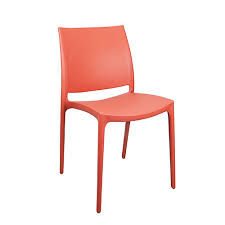chair: (41, 20, 186, 216)
